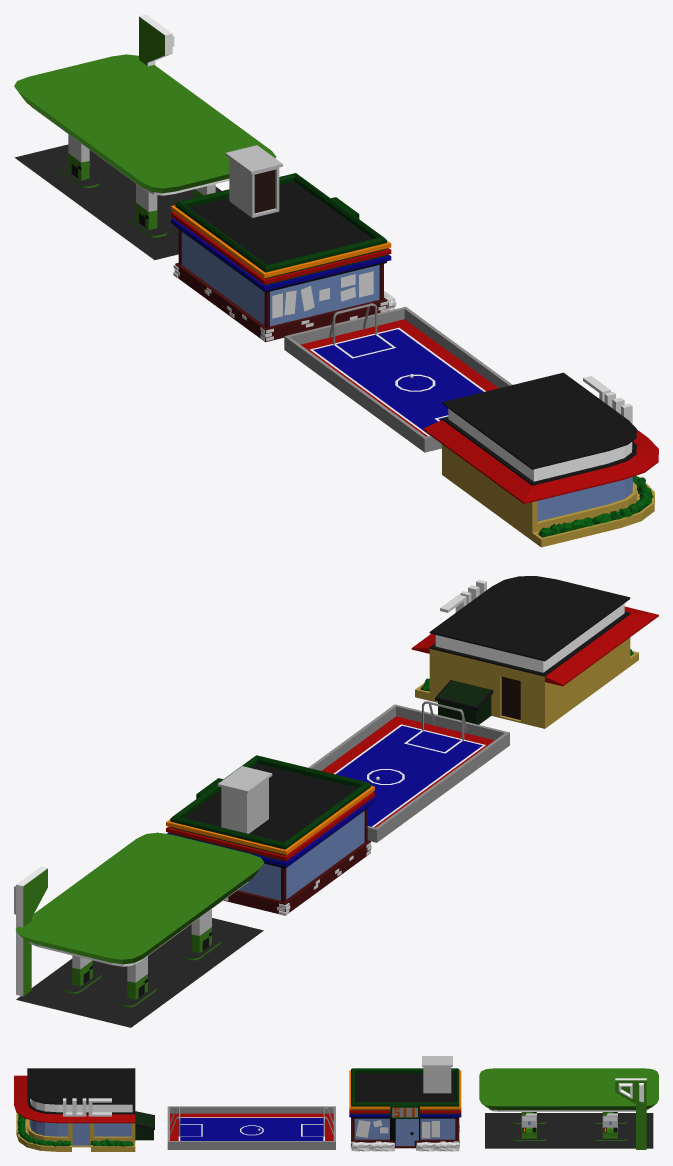
File: Buildings.FBX
3 views of the same model, one above another, from view 1: azimuth 30°, elevation 25°; view 2: azimuth 150°, elevation 25°; view 3: azimuth 270°, elevation 25° (orthographic). The views are drawn at different scales.
Visible parts, largest first — view 1: Box062, Box002, Box057, Box054, Plane001, Box055, Box061; view 2: Box062, Box002, Box057, Box054, Plane001, Box055, Box061; view 3: Box062, Box002, Box054, Box057, Plane001, Box055, Box061, Box063, Box064, Plane006, Box047, Box044 (+1 smaller).
Boxes of the visible parts, box(x1,y1,x2,y2) form: Box062: box(423, 372, 658, 547); Box002: box(171, 145, 391, 342); Box057: box(14, 54, 276, 195); Box054: box(284, 306, 512, 452); Plane001: box(14, 144, 221, 260); Box055: box(58, 134, 215, 237); Box061: box(139, 14, 174, 66); Box062: box(411, 576, 658, 728); Box002: box(166, 755, 374, 913); Box057: box(15, 832, 264, 966); Box054: box(308, 704, 509, 842); Plane001: box(16, 918, 263, 1027); Box055: box(63, 909, 221, 1007); Box061: box(14, 866, 47, 996); Box062: box(14, 1068, 154, 1151); Box002: box(349, 1056, 461, 1148); Box054: box(167, 1106, 335, 1149); Box057: box(479, 1068, 658, 1111); Plane001: box(485, 1113, 653, 1148); Box055: box(512, 1112, 627, 1140); Box061: box(615, 1078, 646, 1149); Box063: box(63, 1098, 86, 1116); Box064: box(88, 1098, 111, 1116); Plane006: box(356, 1120, 370, 1137); Box047: box(351, 1142, 370, 1151); Box044: box(416, 1142, 435, 1151).
Bounding box in the file's own units: 362 × 252 × 2114.
